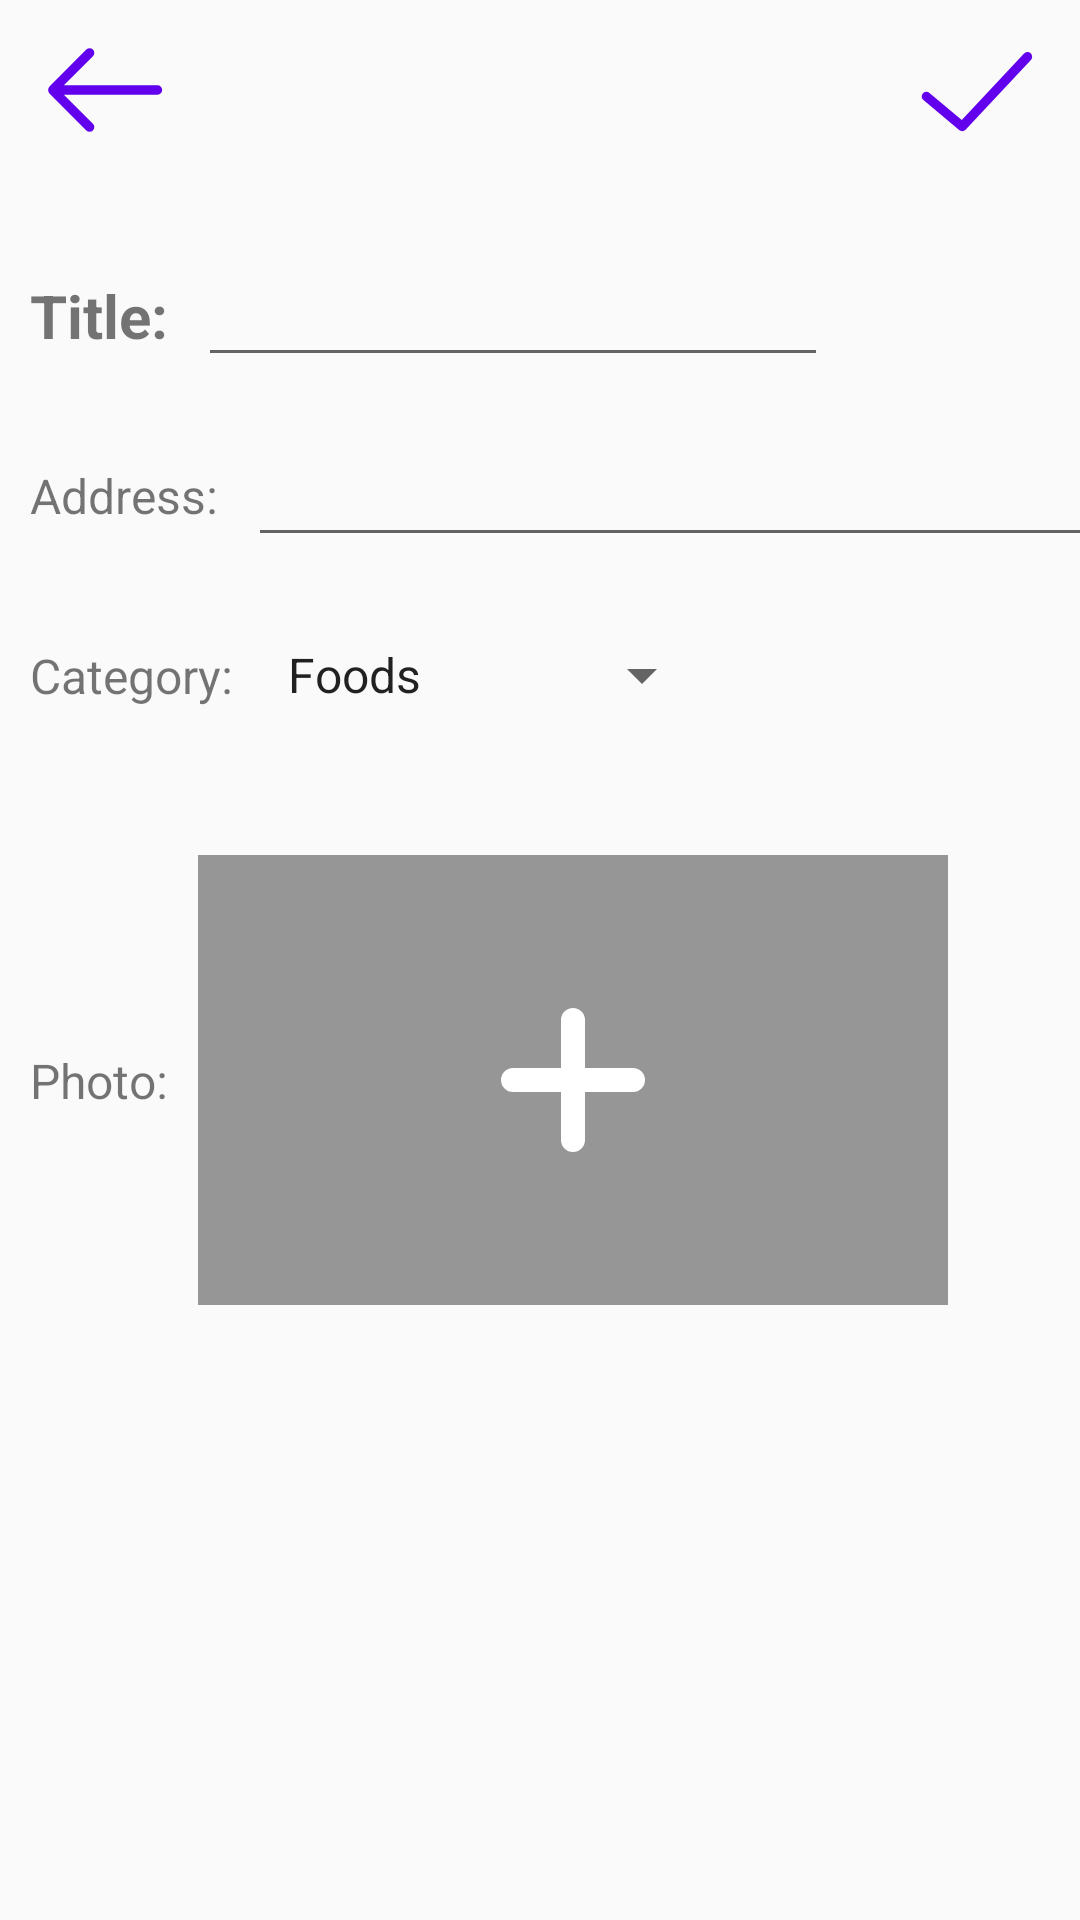

Named icons in this screenshot (1080 × 1920) and their bounding boxes, region(x1, y1, x2, y2):
back: region(48, 48, 162, 132)
submit: region(921, 52, 1032, 132)
